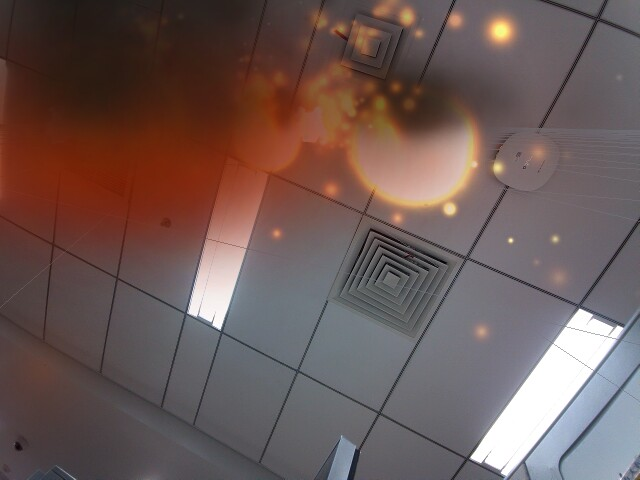fire: (348, 81, 484, 214), (232, 108, 303, 171)
